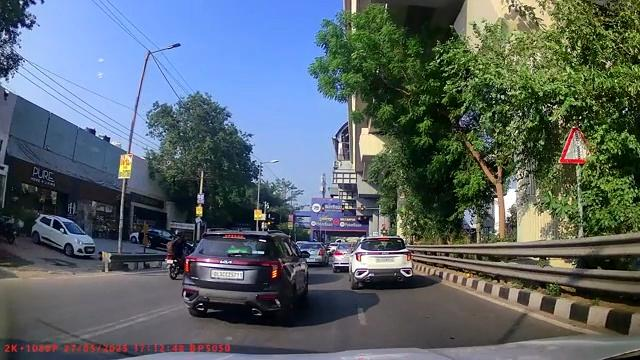motorcycle_with_helmet: (166, 228, 191, 280)
